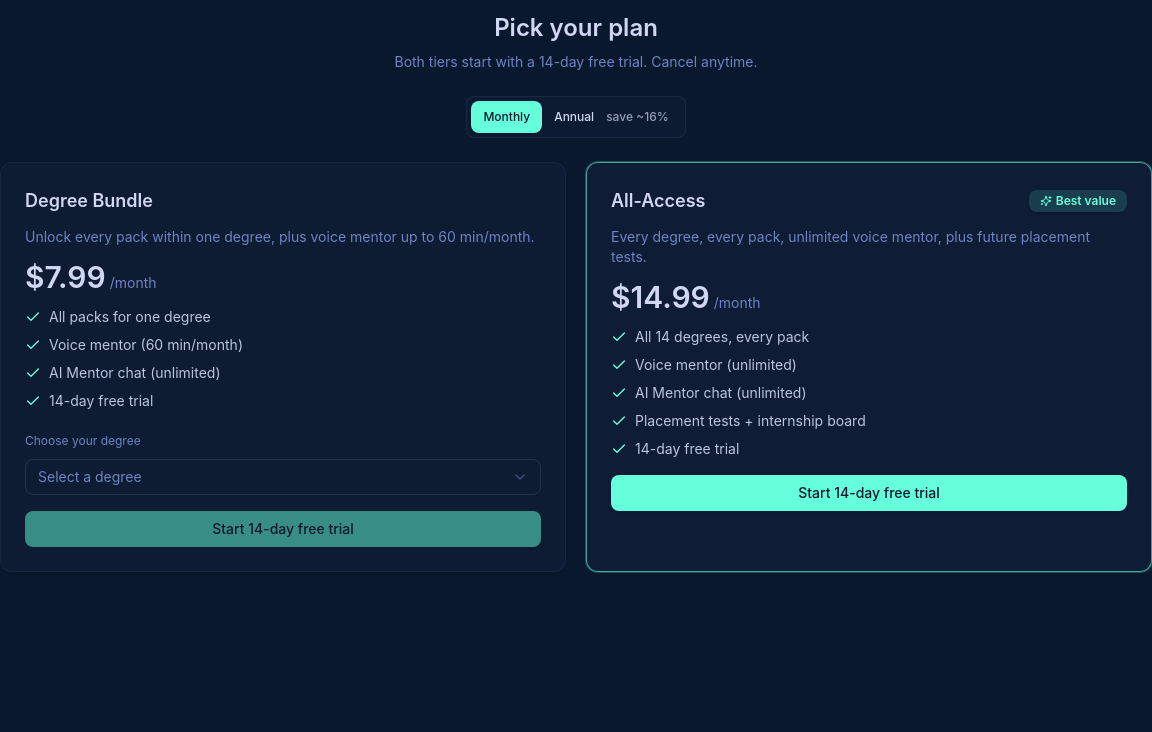
Test: SubscriptionPlans › toggles between monthly and annual pricing
Expected: the heading "Degree Bundle" is shown, left=25, top=187, right=153, bottom=215
Expected: the text "$7.99" is shown, left=25, top=259, right=106, bottom=295
# Switch to annual
Click the button "Annual save ~16%". click: click(611, 117)
box: left=542, top=101, right=681, bottom=133
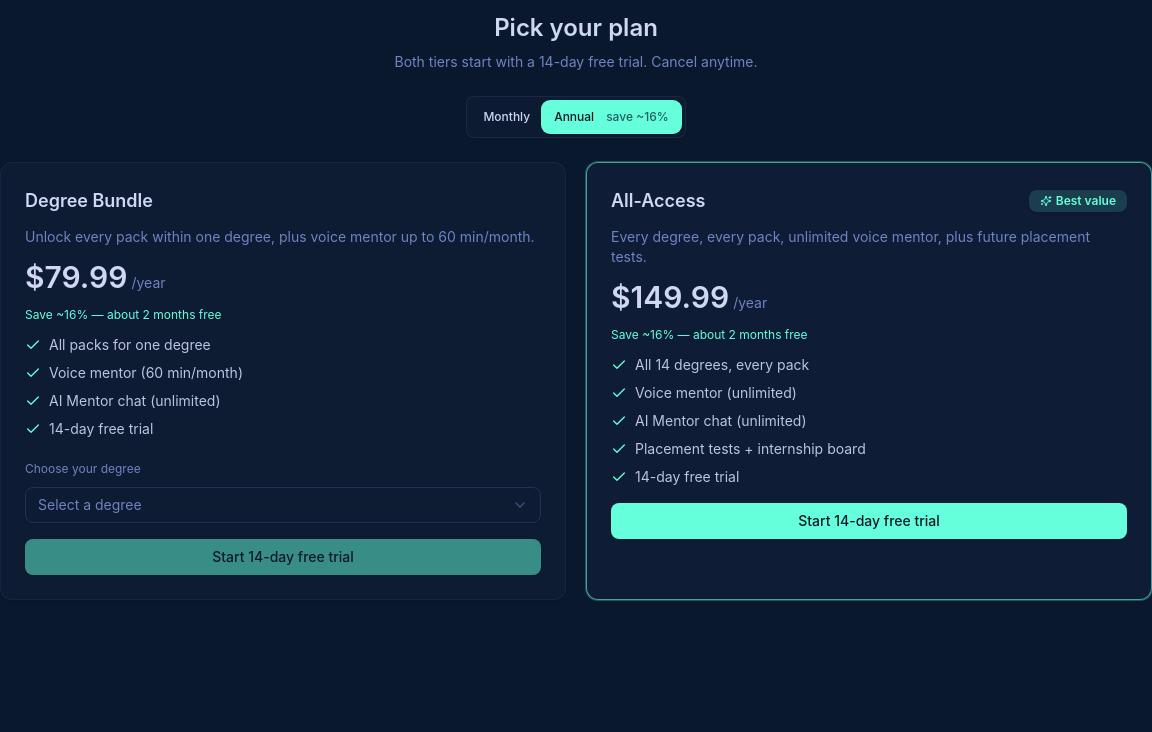
Now the text "$79.99" is shown, box left=25, top=259, right=128, bottom=295
Now the text "$149.99" is shown, box left=611, top=279, right=729, bottom=315
